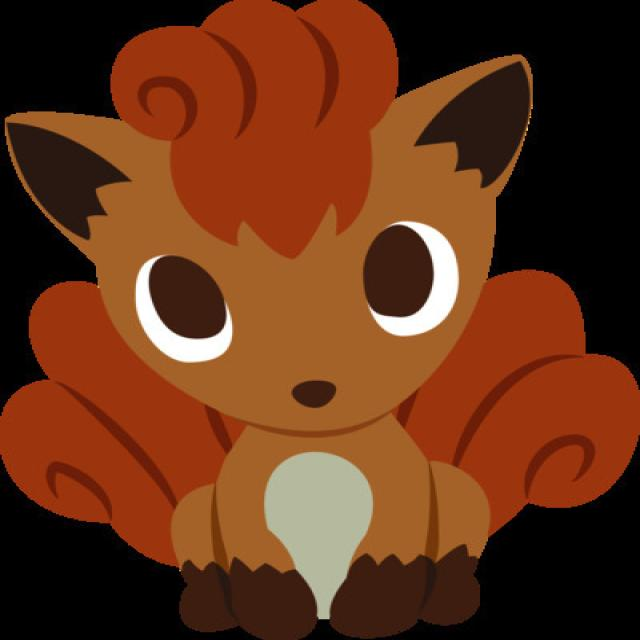Vulpix: (0, 0, 640, 637)
